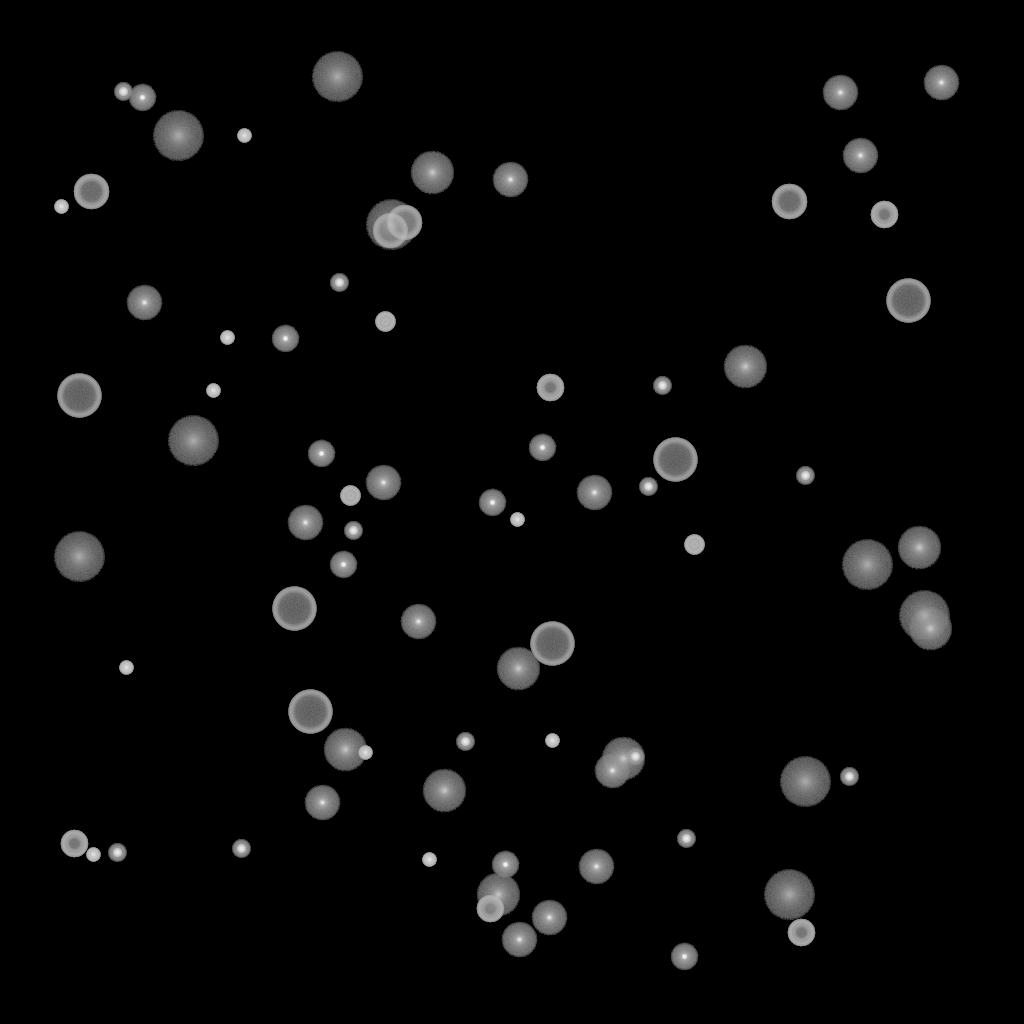depth:-10: (271, 325, 299, 353), (670, 943, 698, 971), (128, 84, 156, 112), (329, 551, 357, 579), (491, 851, 519, 879), (478, 489, 506, 517), (307, 440, 335, 468), (528, 434, 556, 462)
depth:-20: (677, 830, 695, 848), (840, 768, 858, 786), (626, 748, 644, 766), (796, 467, 814, 485), (232, 840, 250, 858), (344, 522, 362, 540), (653, 377, 671, 395), (639, 478, 657, 496), (108, 844, 126, 862), (456, 733, 474, 751), (114, 83, 132, 101), (330, 274, 348, 292)
depth:-30: (545, 734, 559, 748), (206, 384, 220, 398), (422, 853, 436, 867), (119, 661, 133, 675), (86, 848, 100, 862), (237, 129, 251, 143), (358, 746, 372, 760), (220, 331, 234, 345), (510, 513, 524, 527), (54, 200, 68, 214)
depth:-40: (684, 535, 704, 555), (340, 486, 360, 506), (375, 312, 395, 332)
depth:-50: (476, 895, 504, 923), (60, 830, 88, 858), (787, 919, 815, 947), (536, 374, 564, 402), (870, 201, 898, 229)
depth:-60: (386, 205, 422, 241), (73, 174, 109, 210), (372, 213, 408, 249), (771, 184, 807, 220)
depth:-70: (272, 587, 316, 631), (288, 690, 332, 734), (530, 622, 574, 666), (886, 279, 930, 323), (57, 374, 101, 418), (653, 438, 697, 482)
depth:0: (492, 162, 528, 198), (594, 753, 630, 789), (287, 505, 323, 541), (501, 922, 537, 958), (842, 138, 878, 174), (923, 65, 959, 101), (126, 285, 162, 321), (531, 900, 567, 936), (400, 604, 436, 640), (365, 465, 401, 501), (822, 75, 858, 111), (576, 475, 612, 511), (304, 785, 340, 821), (578, 849, 614, 885)
depth:10: (410, 151, 454, 195), (422, 769, 466, 813), (476, 873, 520, 917), (723, 345, 767, 389), (496, 647, 540, 691), (323, 728, 367, 772), (908, 607, 952, 651), (897, 526, 941, 570), (601, 737, 645, 781)
depth:20: (311, 52, 363, 102), (841, 540, 893, 590), (167, 416, 219, 466), (152, 111, 204, 161), (365, 200, 417, 250), (898, 591, 950, 641), (53, 532, 105, 582), (779, 757, 831, 807), (763, 870, 815, 920)
